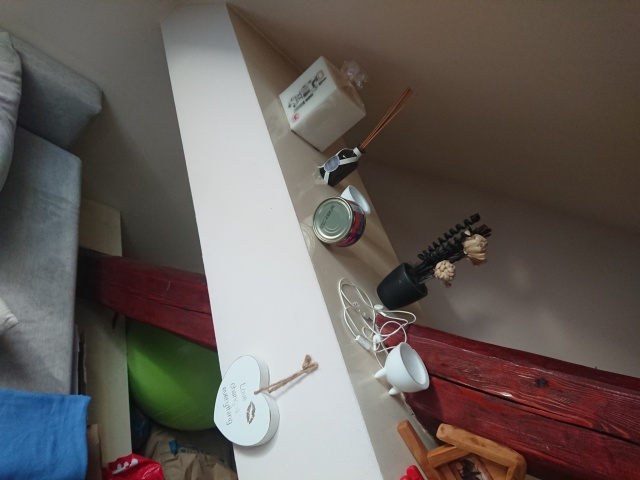Giana Tuna Salad Mexico 185g: (311, 194, 367, 250)
